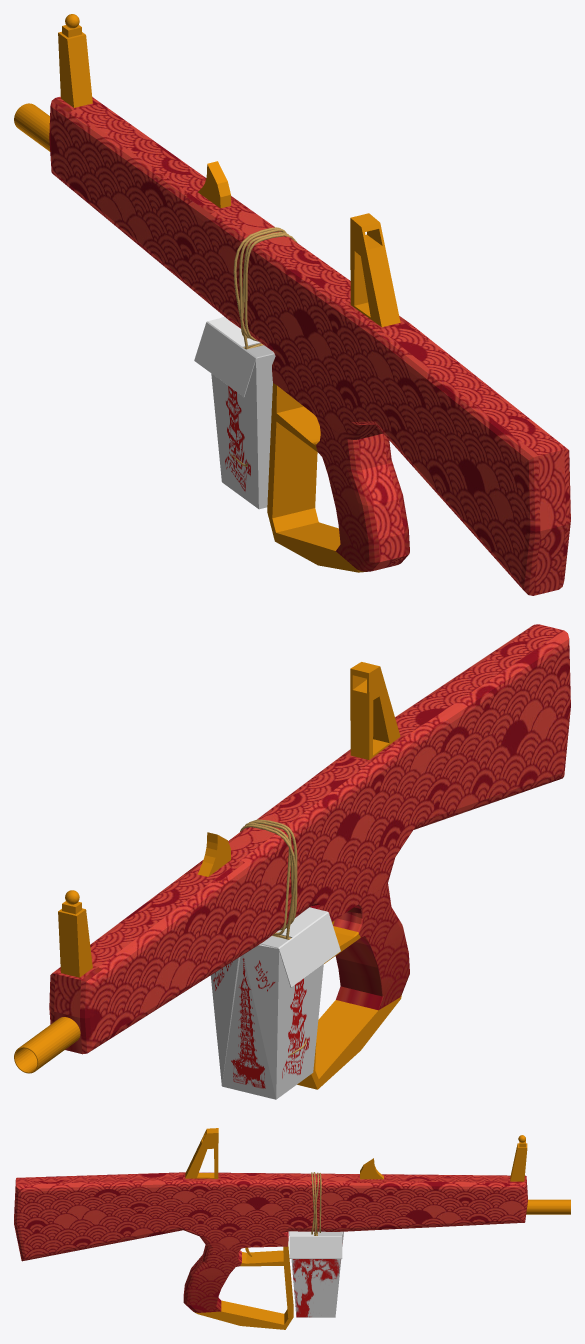
File: TakeOut.fbx
3 views of the same model, one above another, from view 1: azimuth 30°, elevation 25°; view 2: azimuth 150°, elevation 25°; view 3: azimuth 270°, elevation 25° (orthographic). The views are drawn at different scales.
Parts seen in each view (by area): view 1: Cube, Cube.001, Cube.002, Cylinder, BézierCurve, BézierCurve.001; view 2: Cube, Cube.001, Cube.002, Cylinder, BézierCurve.001, BézierCurve; view 3: Cube, Cube.001, Cube.002, Cylinder.
Boxes of the visible parts, bbox=[...] form: Cube: bbox=[49, 14, 570, 595]; Cube.001: bbox=[211, 317, 275, 509]; Cube.002: bbox=[194, 317, 274, 396]; Cylinder: bbox=[14, 103, 50, 151]; BézierCurve: bbox=[239, 228, 297, 341]; BézierCurve.001: bbox=[233, 227, 288, 349]; Cube: bbox=[49, 624, 570, 1089]; Cube.001: bbox=[210, 937, 323, 1099]; Cube.002: bbox=[260, 907, 340, 987]; Cylinder: bbox=[14, 1017, 80, 1073]; BézierCurve.001: bbox=[240, 821, 296, 939]; BézierCurve: bbox=[245, 819, 297, 930]; Cube: bbox=[14, 1128, 527, 1329]; Cube.001: bbox=[291, 1231, 343, 1317]; Cube.002: bbox=[289, 1231, 342, 1258]; Cylinder: bbox=[526, 1199, 570, 1214].
Size of the model in its own units: 47.49 by 172 by 446.
Materials: 4 (2 with a texture image).
